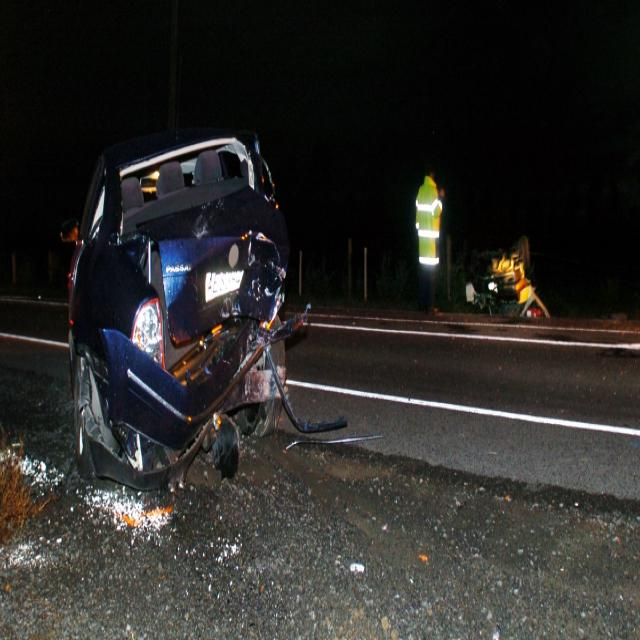accident: (64, 130, 346, 489)
